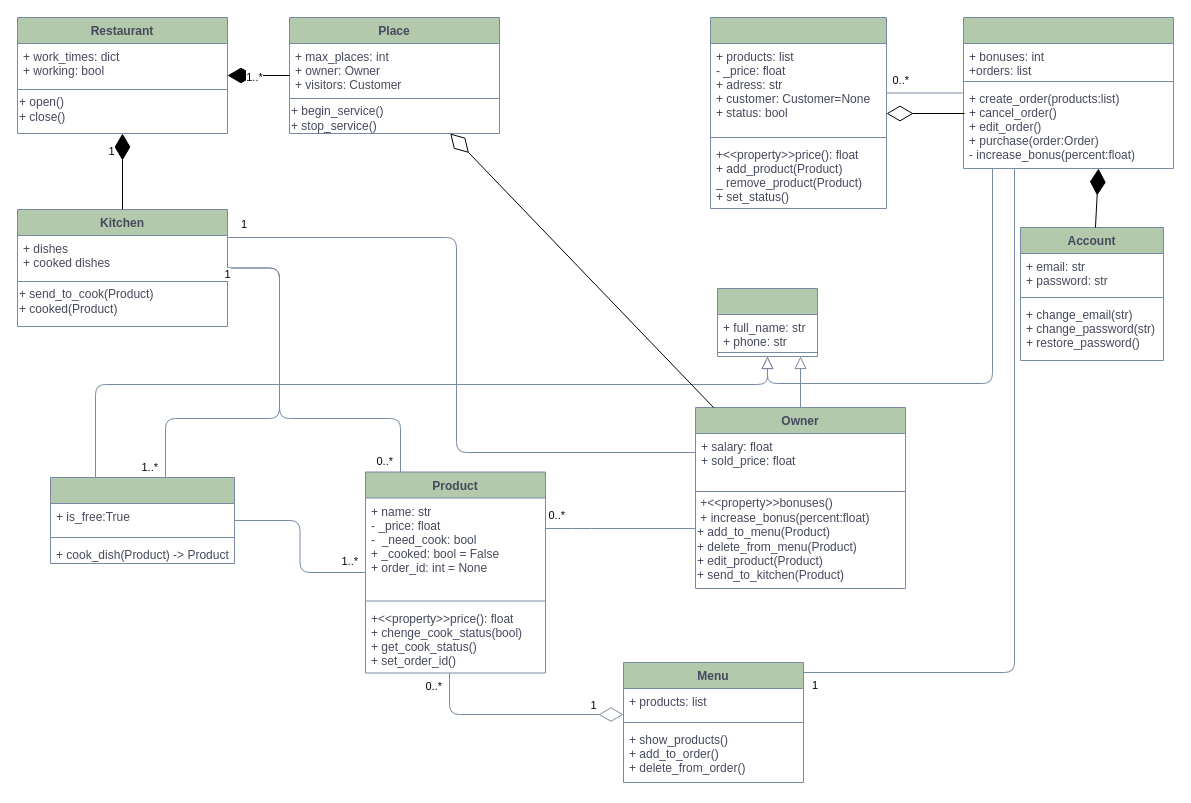
This 1191x803 diagram has some shape labels left out. Each missing label, with the box of its shape:
Chief: (50, 476, 234, 564)
Customer: (962, 16, 1174, 168)
Order: (710, 16, 886, 208)
Person: (716, 288, 818, 356)
